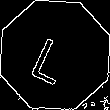L_NE: (30, 25, 80, 85)
